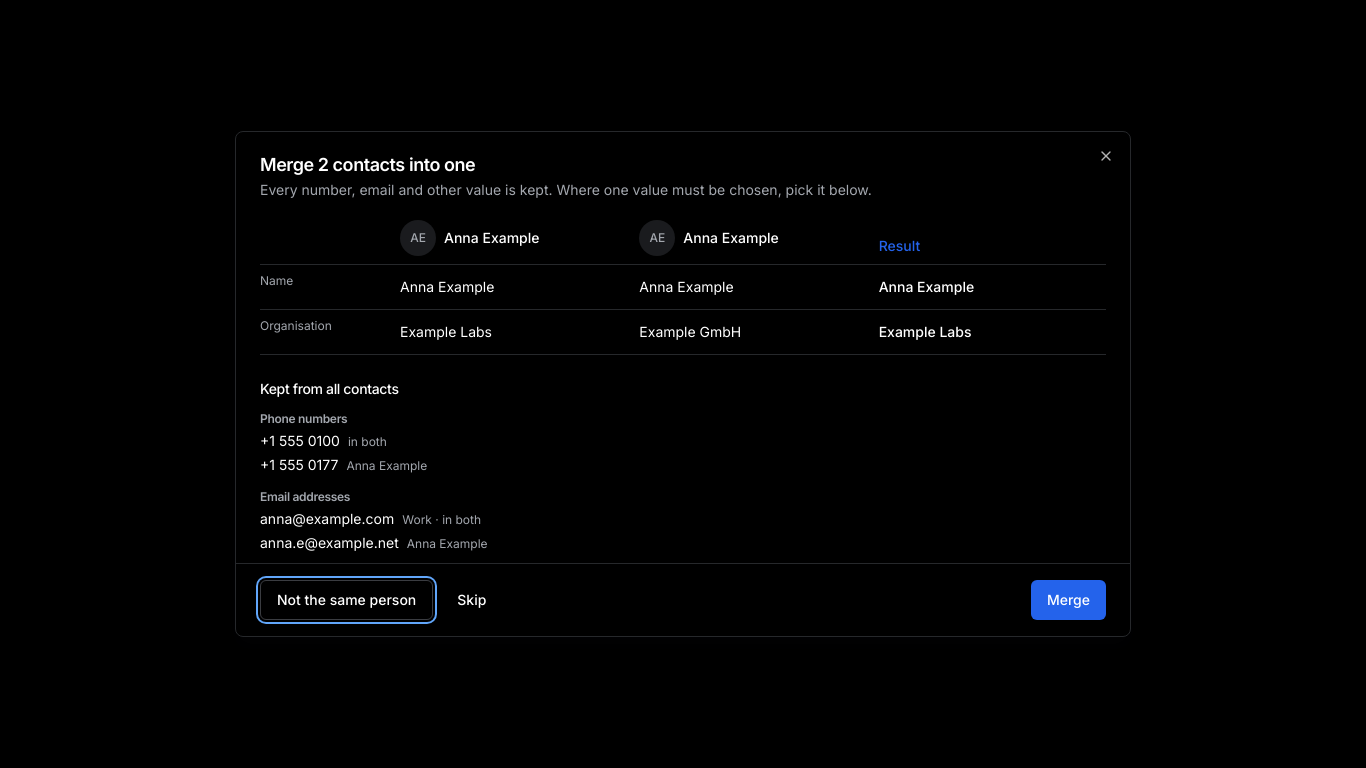
Test case: MergeReviewDialog › asks for a field the server names in CHOICE_REQUIRED and shows TOO_MANY_VALUES in place
The width and height of the screenshot is (1366, 768).
Click the button "Merge": (1068, 600) [1031, 580, 1106, 620]
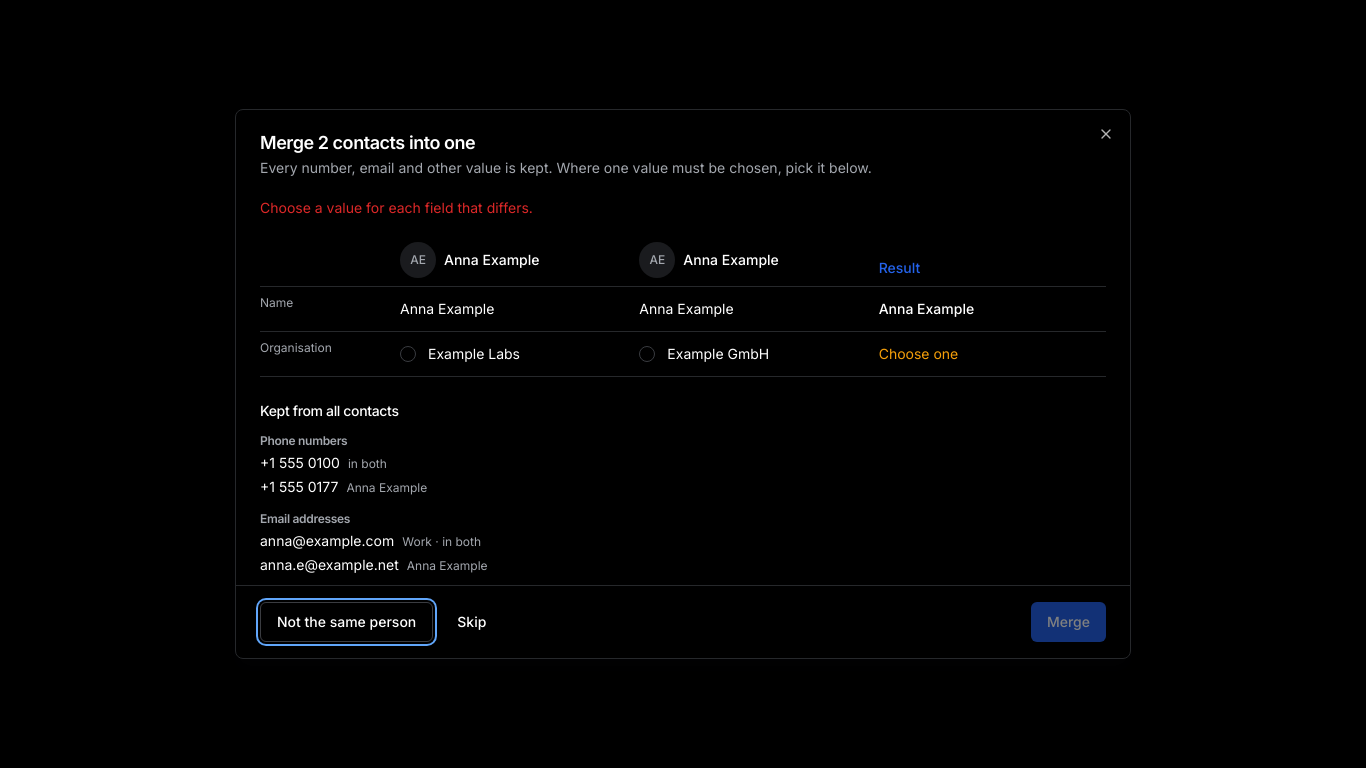
Expected: the text "Choose a value for each field that differs." is shown, [260, 199, 533, 216]
Expected: the button "Merge" is disabled, [1031, 602, 1106, 642]
Click the radio button labelled "Example Labs": (460, 354) [400, 345, 520, 362]
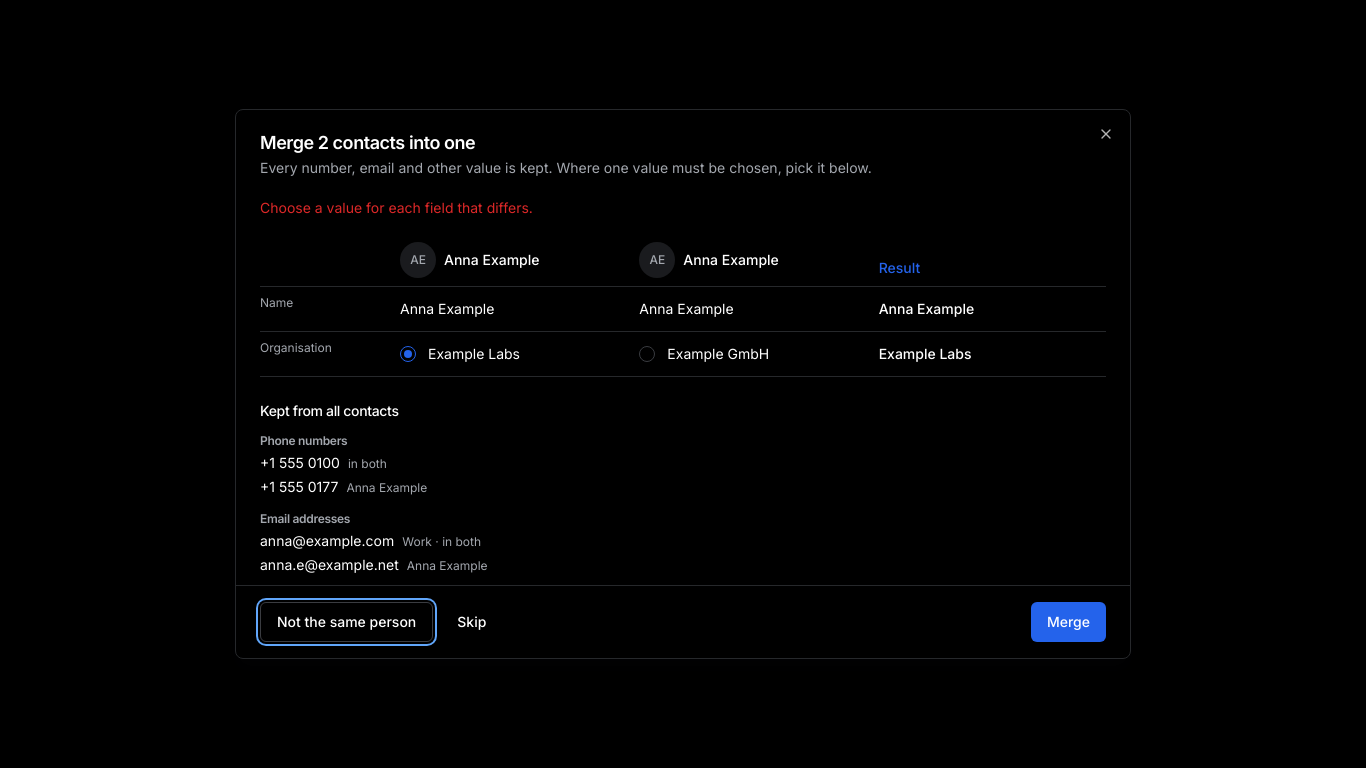
Click the button "Merge": (1068, 622) [1031, 602, 1106, 642]
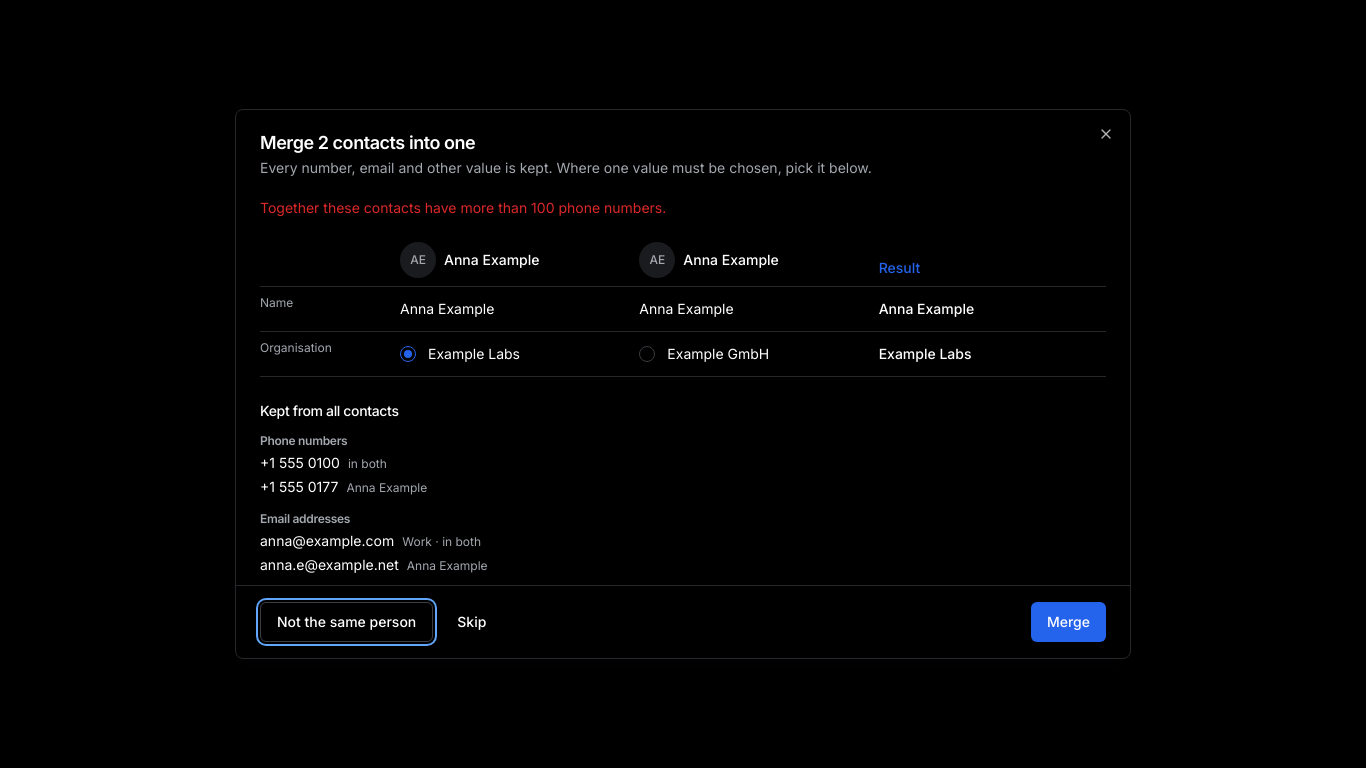
Expected: the text "Together these contacts have more than 100 phone numbers." is shown, [260, 199, 666, 216]
